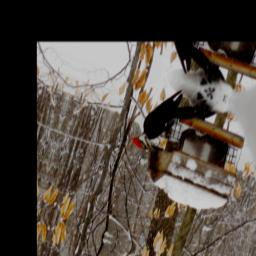Woodpecker: (129, 76, 213, 170)
